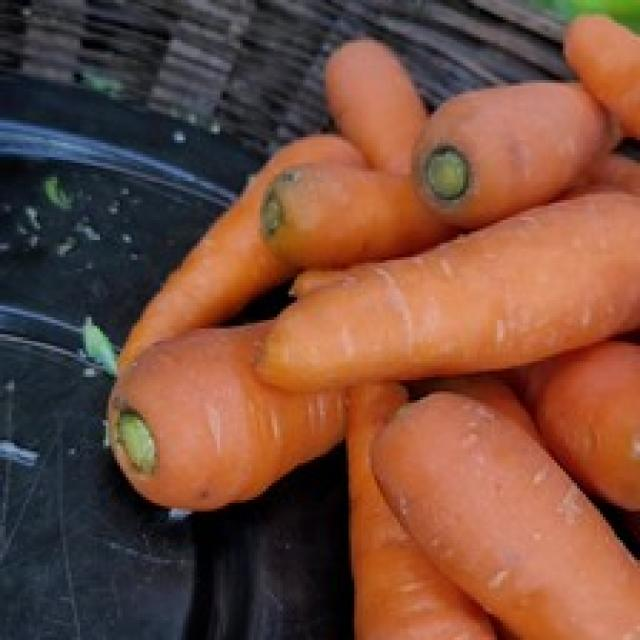Fresh_Carrot: (263, 191, 640, 376), (368, 407, 640, 640), (107, 319, 344, 505)
